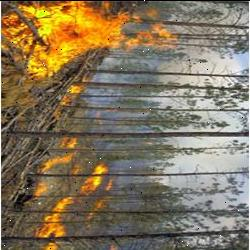fire: (24, 85, 116, 250), (0, 0, 180, 79)
